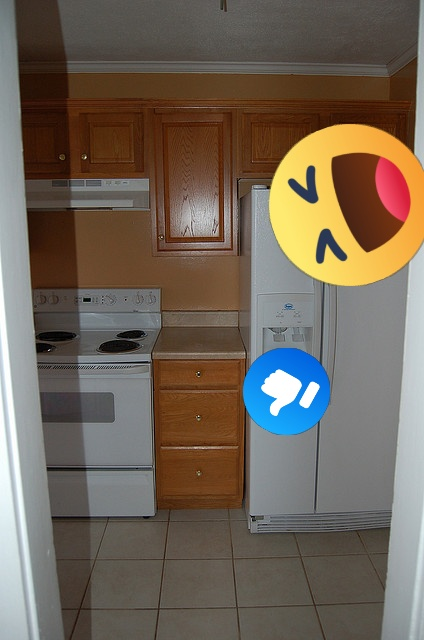haha: (269, 124, 424, 286)
like: (243, 348, 330, 435)
